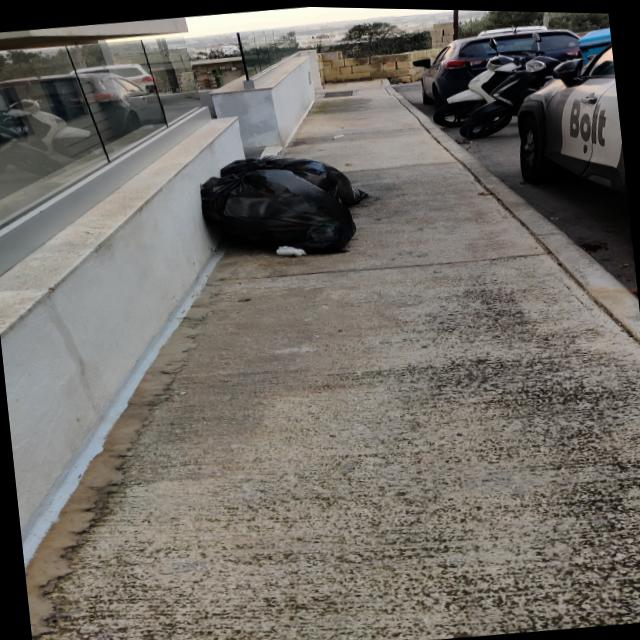Mixed Waste -Black Bags-: (198, 153, 370, 251)
